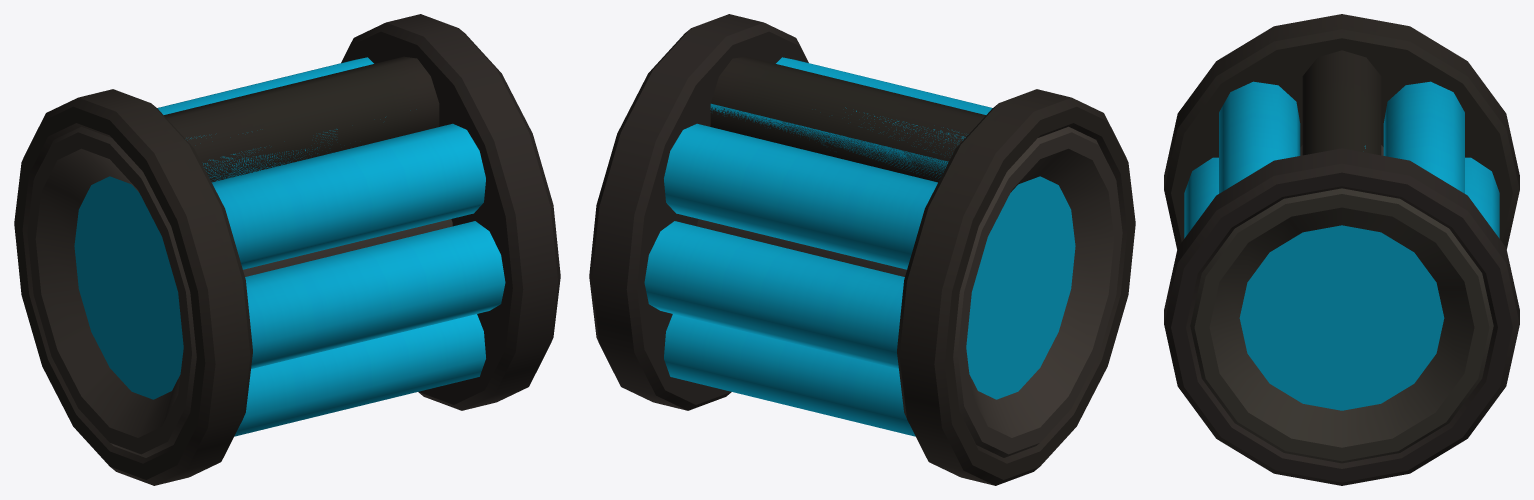
Rendered from SR1_MagazineExtended.fbx.
The picture shows the model from 3 angles, left to right: view 1: azimuth 30°, elevation 25°; view 2: azimuth 150°, elevation 25°; view 3: azimuth 270°, elevation 25°; orthographic projection. The views are drawn at different scales.
Parts seen in each view (by area): view 1: SR1_MagazineExtended; view 2: SR1_MagazineExtended; view 3: SR1_MagazineExtended.
Boxes of the visible parts, left/top/right/bottom form: SR1_MagazineExtended: left=14, top=14, right=560, bottom=485; SR1_MagazineExtended: left=589, top=14, right=1135, bottom=485; SR1_MagazineExtended: left=1164, top=14, right=1519, bottom=485.
Bounding box in the file's own units: 6.4 × 6.2 × 6.2.
